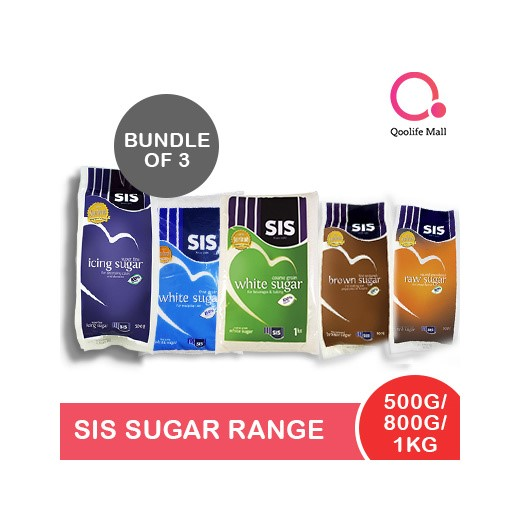sis white sugar: (149, 197, 228, 352)
